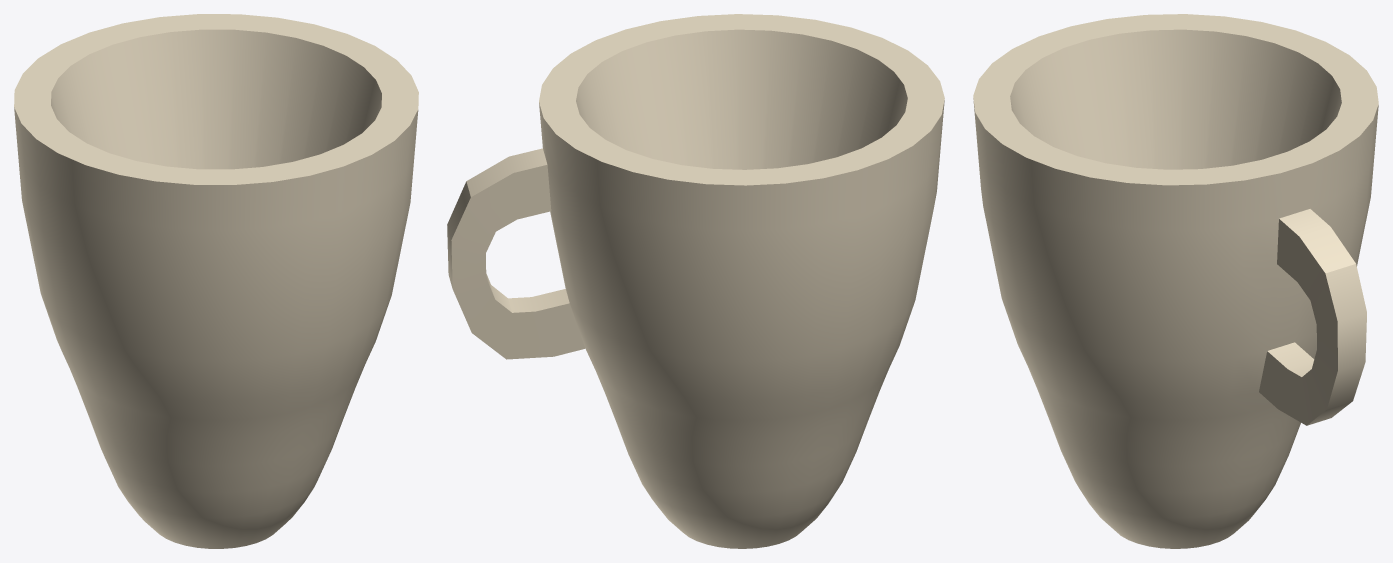
The picture shows the model from 3 angles, left to right: view 1: azimuth 30°, elevation 25°; view 2: azimuth 150°, elevation 25°; view 3: azimuth 270°, elevation 25°; orthographic projection.
Visible parts, largest first — view 1: 10oz; view 2: 10oz; view 3: 10oz.
Part boxes in pixels (<box>): 10oz: <box>14,14,418,548</box>; 10oz: <box>447,14,944,548</box>; 10oz: <box>973,14,1378,548</box>.
Bounding box in the file's own units: 33.15 × 34.32 × 29.89.
